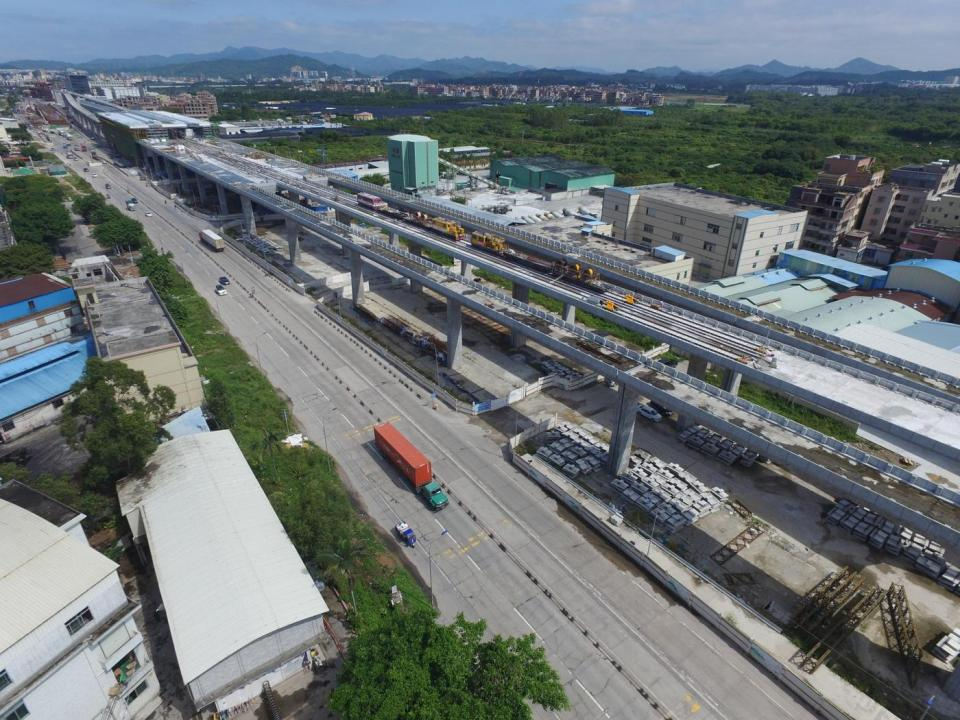car: (651, 397, 675, 416), (638, 404, 661, 421), (606, 372, 625, 386), (657, 358, 677, 371), (216, 284, 226, 296), (219, 276, 229, 286), (66, 151, 72, 158), (131, 198, 137, 204), (92, 172, 97, 178), (146, 212, 152, 217), (106, 183, 110, 189), (83, 168, 88, 172), (73, 158, 78, 161)
truck: (373, 422, 448, 513), (198, 229, 225, 252), (395, 520, 417, 548), (126, 200, 135, 211), (91, 151, 102, 160), (57, 130, 66, 137), (67, 132, 72, 140), (81, 146, 86, 152)
